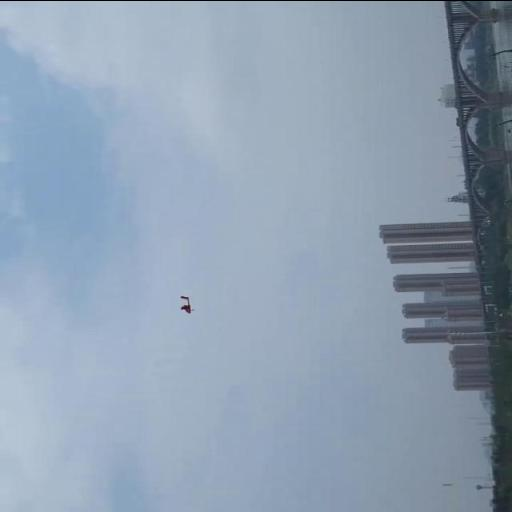uav: (178, 294, 194, 312)
